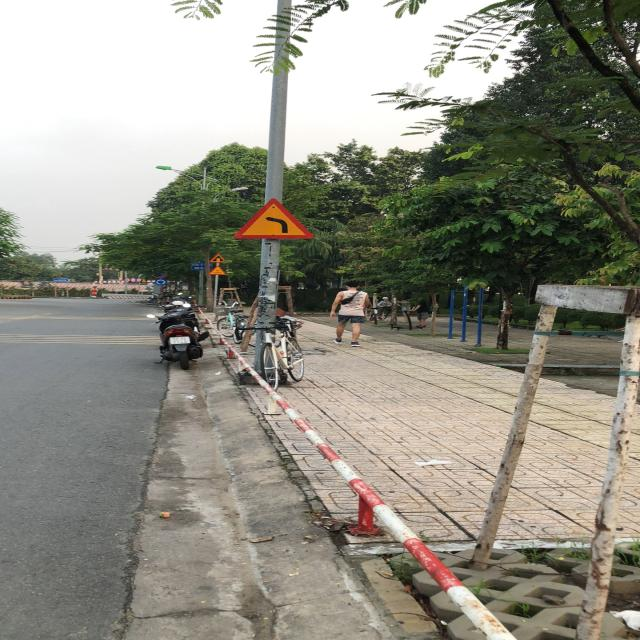Bien bao cho ngoat nguy hiem: (230, 197, 316, 241)
Bien bao di cham: (208, 264, 230, 276)
Bien bao noi giao nhau chay theo vong xuyen: (154, 278, 168, 286)
